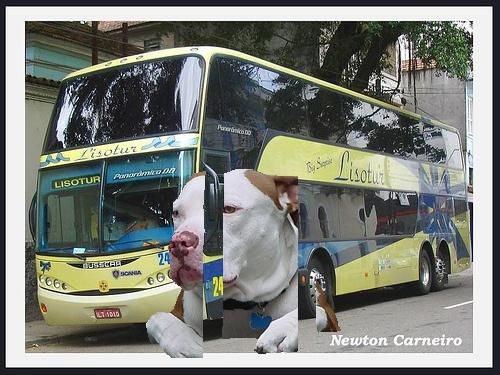tampered: (147, 170, 341, 358)
